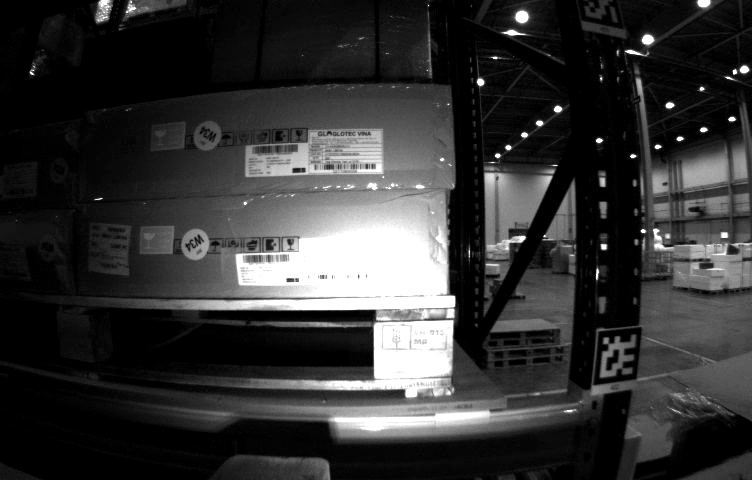True Barcode: (88, 221, 135, 282)
